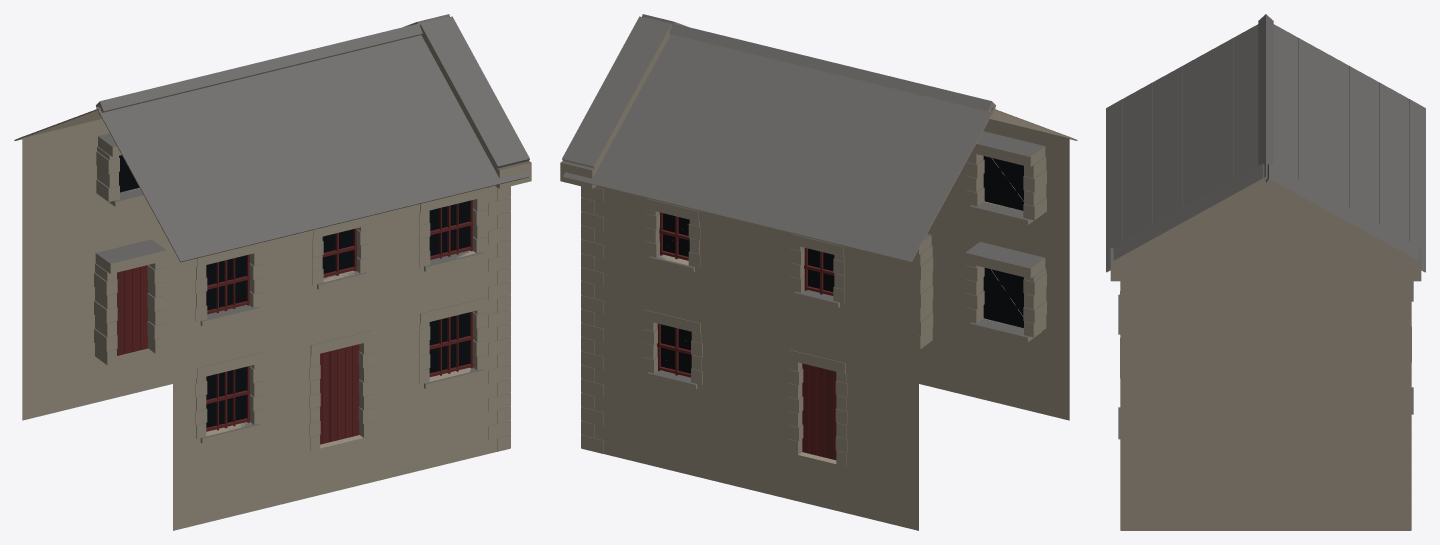
The model's file is context.dales.house_14.glb.
3 views of the same model, side by side, from view 1: azimuth 30°, elevation 25°; view 2: azimuth 150°, elevation 25°; view 3: azimuth 270°, elevation 25° (orthographic). The views are drawn at different scales.
Visible parts, largest first — view 1: main__stone_a98, main__slate_666, main__paint_622, main__glass_dark, main__paint_522; view 2: main__stone_a98, main__slate_666, main__glass_dark, main__paint_622, main__paint_522; view 3: main__stone_a98, main__slate_666.
Boxes of the visible parts, left/top/right/bottom form: main__stone_a98: left=14, top=22, right=531, bottom=530; main__slate_666: left=49, top=14, right=530, bottom=438; main__paint_622: left=124, top=200, right=473, bottom=444; main__glass_dark: left=119, top=155, right=469, bottom=427; main__paint_522: left=117, top=270, right=337, bottom=441; main__stone_a98: left=560, top=22, right=1077, bottom=530; main__slate_666: left=561, top=14, right=1046, bottom=453; main__glass_dark: left=661, top=156, right=1024, bottom=373; main__paint_622: left=657, top=168, right=1017, bottom=460; main__paint_522: left=825, top=369, right=833, bottom=459; main__stone_a98: left=1106, top=177, right=1425, bottom=530; main__slate_666: left=1106, top=14, right=1425, bottom=517.
Size of the model in its own units: 7.95 by 8.05 by 6.48.
